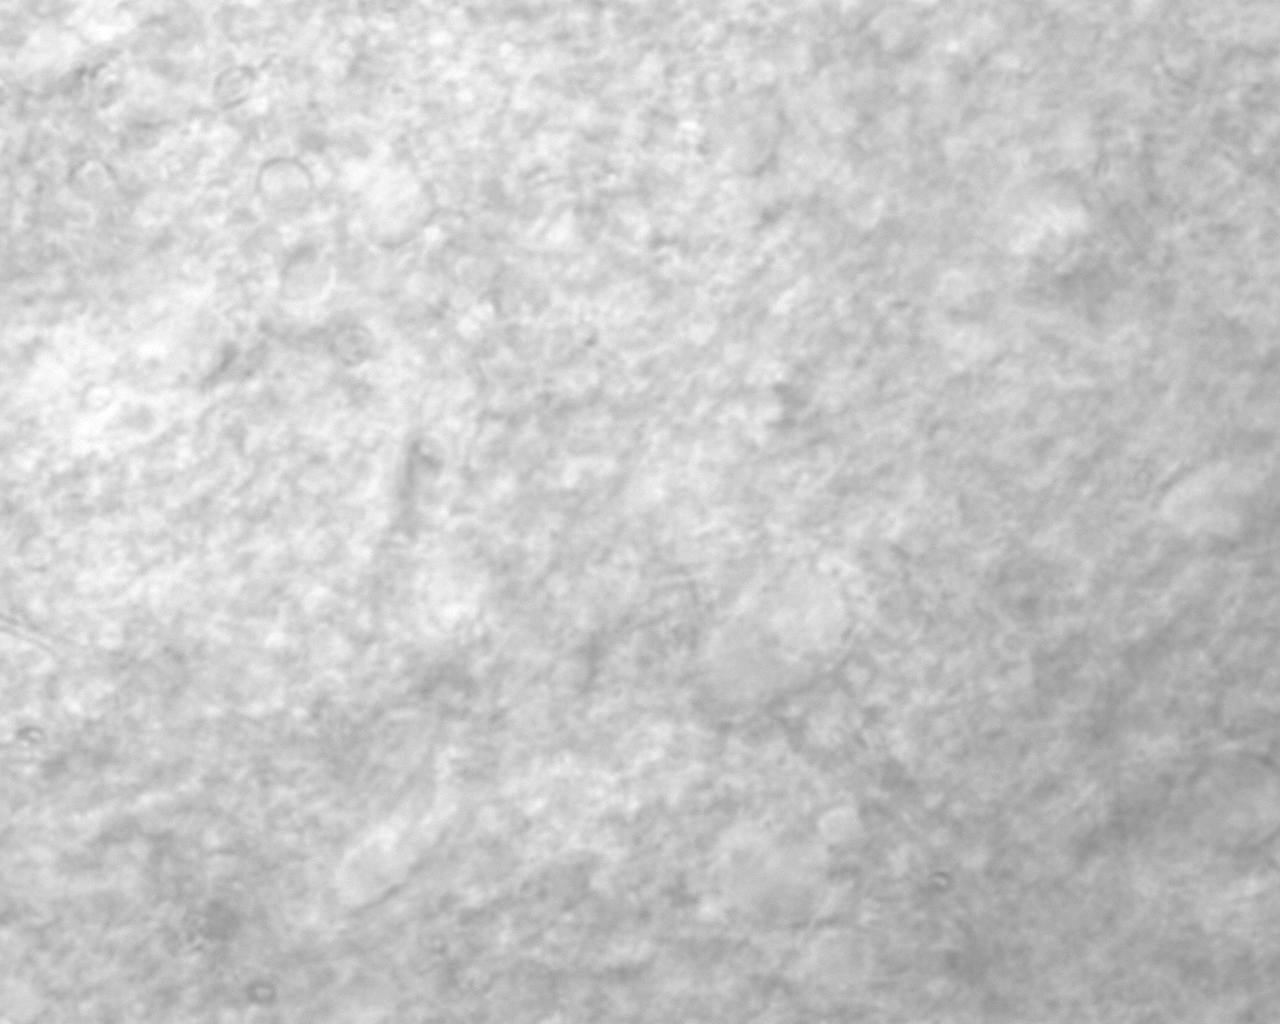neuron: (665, 550, 877, 739), (310, 807, 448, 926)
